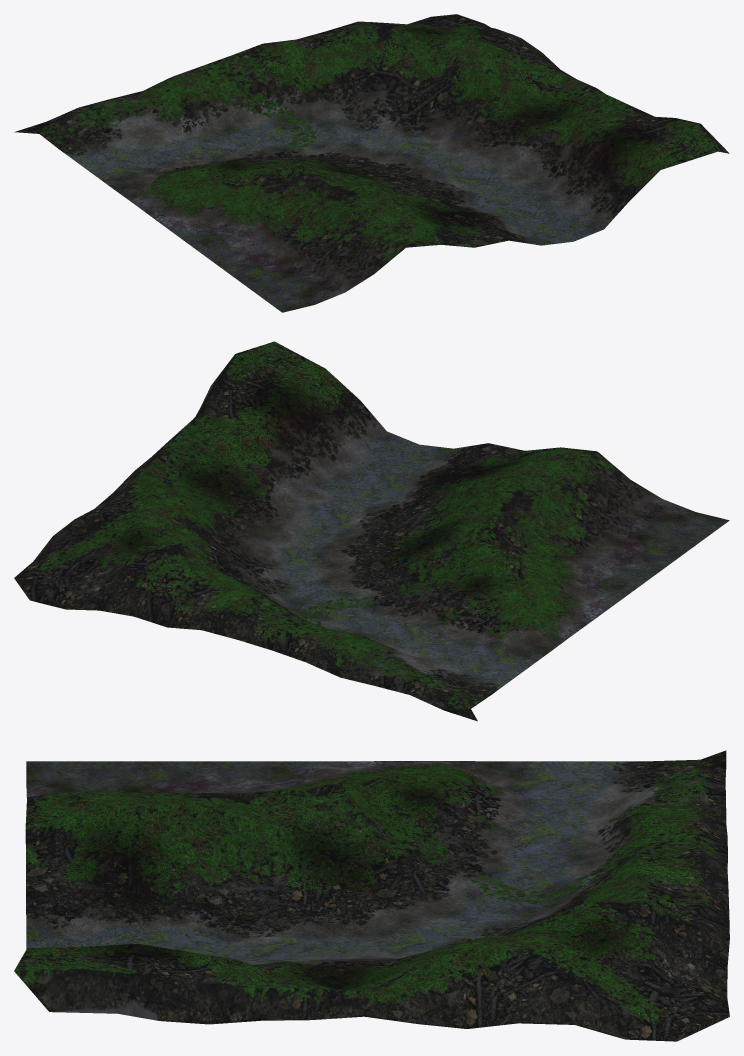
The model's file is terrain2.glb.
The picture shows the model from 3 angles, top to bottom: view 1: azimuth 30°, elevation 25°; view 2: azimuth 150°, elevation 25°; view 3: azimuth 270°, elevation 25°; orthographic projection. The views are drawn at different scales.
Parts seen in each view (by area): view 1: Terrain.002; view 2: Terrain.002; view 3: Terrain.002.
Part boxes in pixels (<box>): Terrain.002: <box>14,14,729,312</box>; Terrain.002: <box>14,341,729,721</box>; Terrain.002: <box>14,750,729,1041</box>.
Bounding box in the file's own units: 45.92 × 6.04 × 43.46.
Materials: 1 (1 with a texture image).
